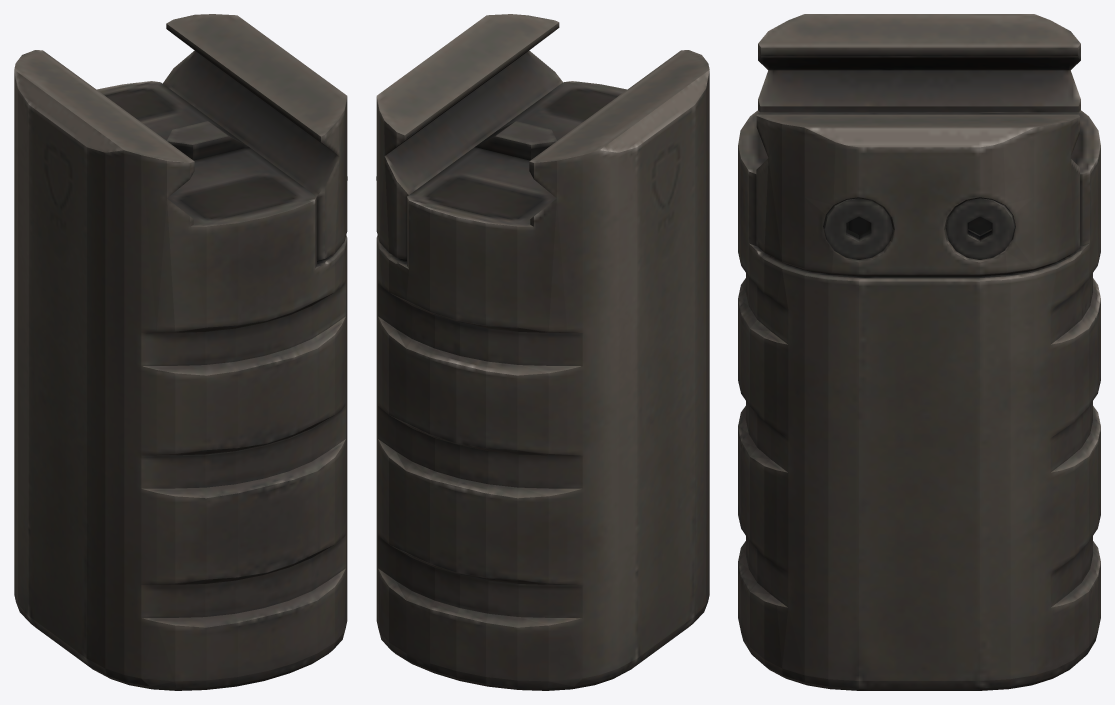
3 renders of one model, left to right at view 1: azimuth 30°, elevation 25°; view 2: azimuth 150°, elevation 25°; view 3: azimuth 270°, elevation 25°, orthographic. The views are drawn at different scales.
Parts seen in each view (by area): view 1: TW_648067db042be0705c0b3009_PZ_Import; view 2: TW_648067db042be0705c0b3009_PZ_Import; view 3: TW_648067db042be0705c0b3009_PZ_Import.
Boxes of the visible parts, x1,y1,x2,y2 form: TW_648067db042be0705c0b3009_PZ_Import: (14, 14, 347, 690); TW_648067db042be0705c0b3009_PZ_Import: (376, 14, 709, 690); TW_648067db042be0705c0b3009_PZ_Import: (738, 14, 1100, 690).
Bounding box in the file's own units: 0.0179 × 0.022 × 0.0376.
1 material, 1 textured.
